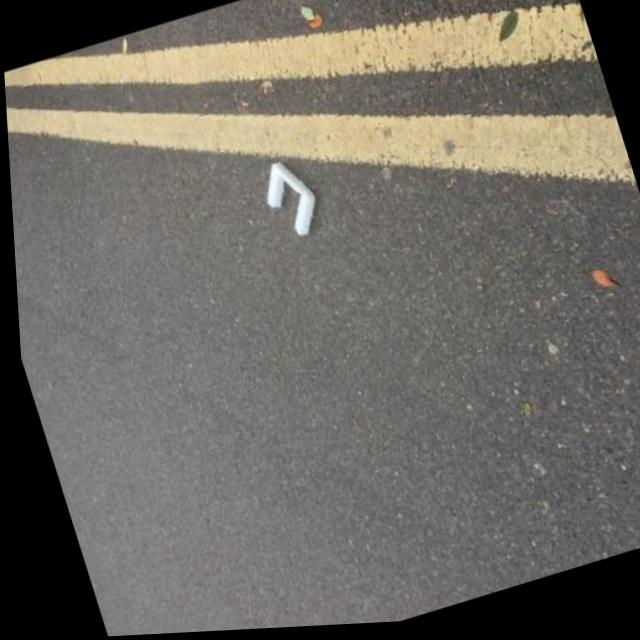foam: (254, 151, 327, 243)
